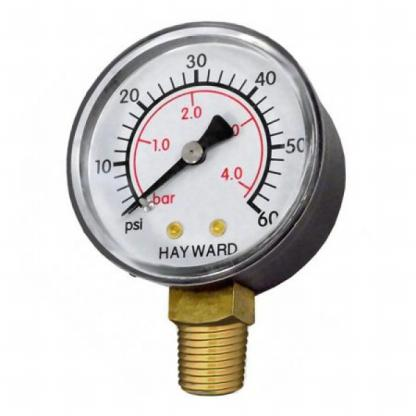needle: (119, 157, 190, 218)
